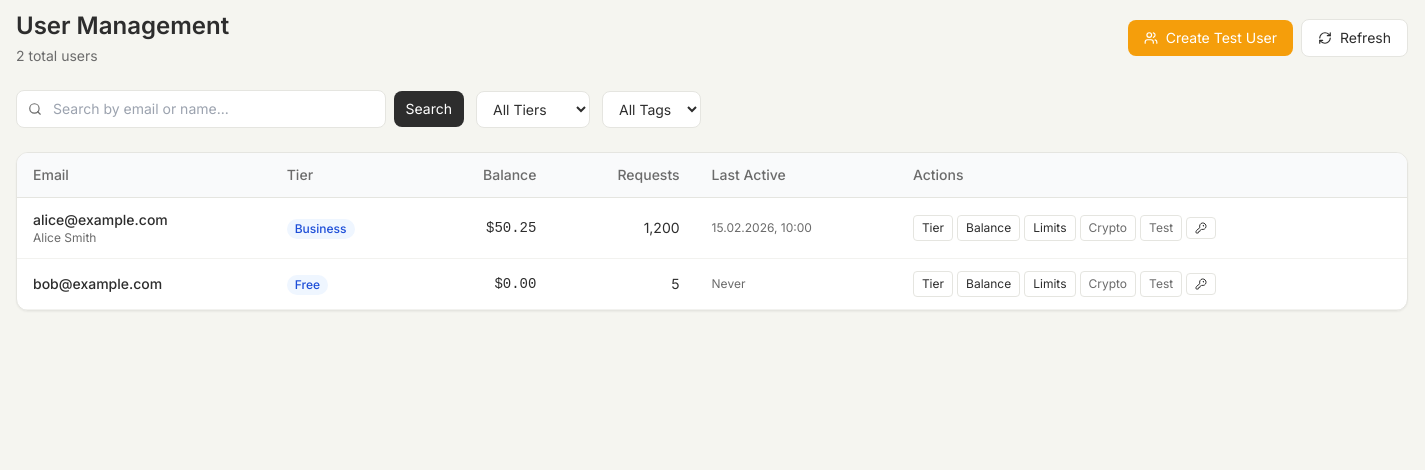
Scenario: AdminUsersPage › clicking a user row expands detail panel
What coordinates should you click on to do the following:
click the text "alice@example.com"
I would click on:
 (100, 220)
Its box is [33, 210, 168, 230].
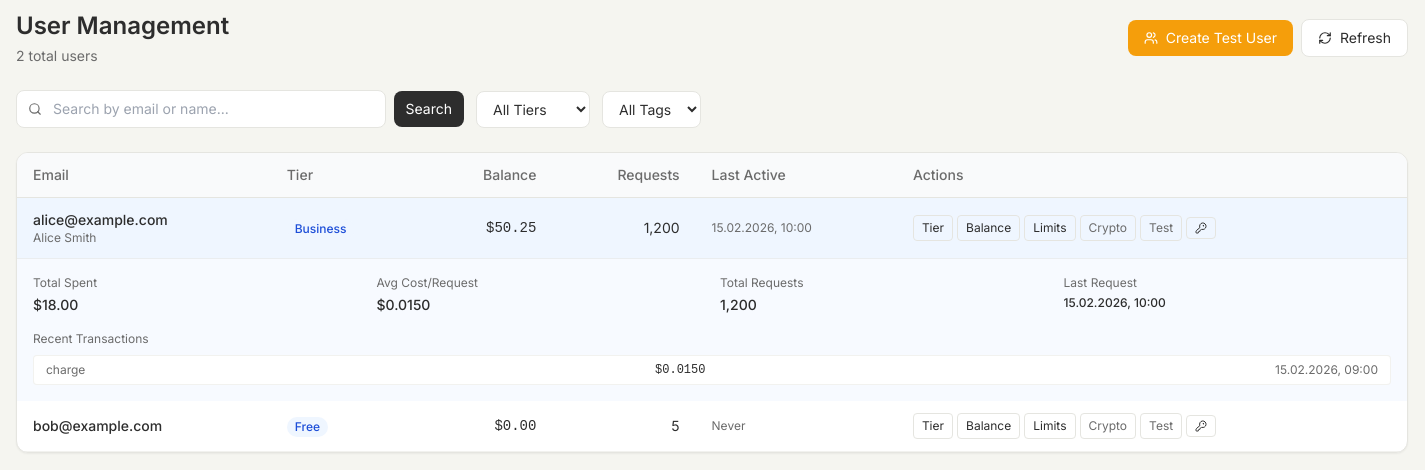
Expected: the text "Total Spent" is shown, [33, 275, 97, 290]
Expected: the text "$18.00" is shown, [33, 296, 78, 313]
Expected: the text "Avg Cost/Request" is shown, [376, 275, 478, 290]
